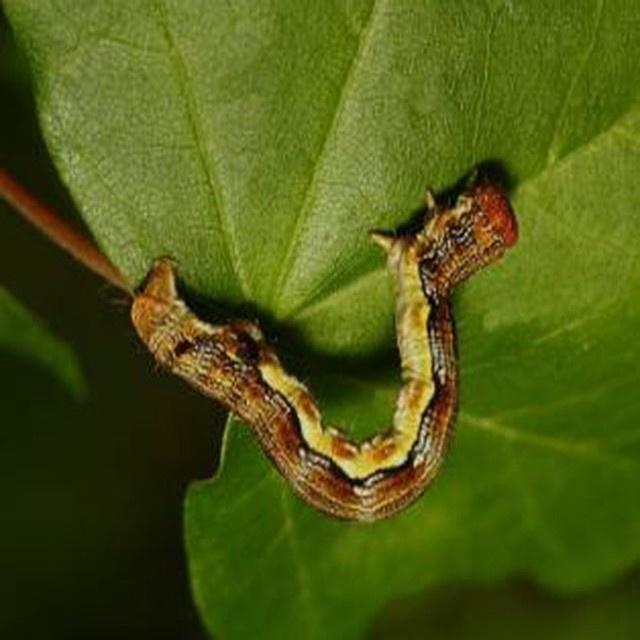gusano_cogollero: (133, 180, 515, 518)
